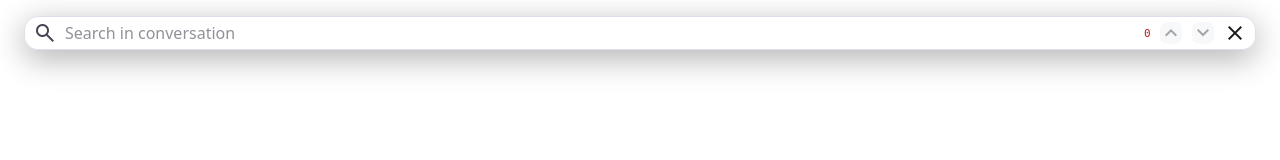
Test: ChatSearchBar — matching and counting › counts case-insensitive matches over user + assistant text only
Type "RED PANDA" into the field labelled "Search in conversation" at (600, 33), box [65,21,1136,45]
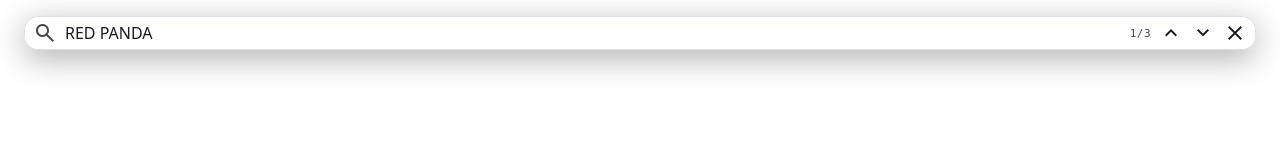
Expected: the text with test id "chat-search-count" reads "1/3", [1130,26,1151,40]
